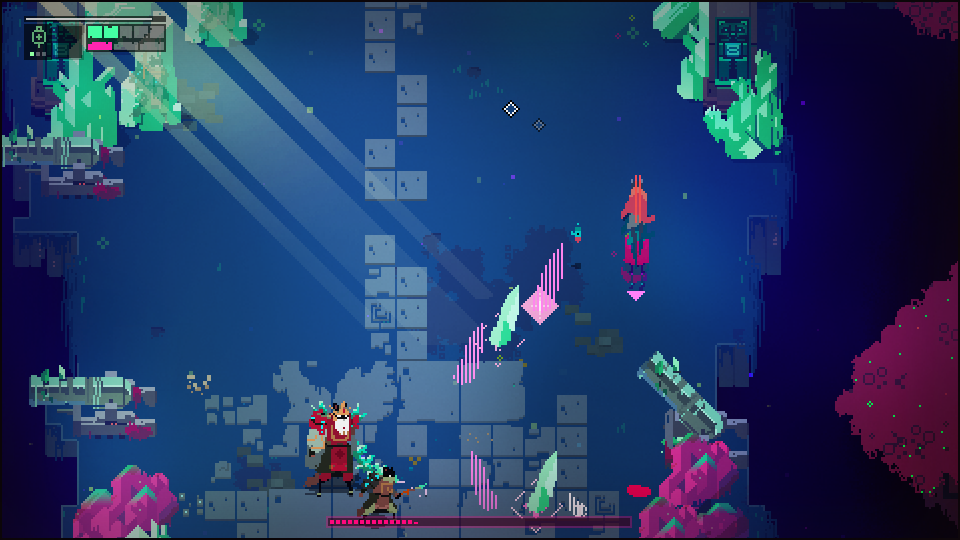hanged_crys: (531, 244, 568, 314), (488, 282, 518, 351), (454, 324, 484, 393), (471, 449, 501, 518), (526, 449, 556, 518)
hanged_man: (304, 401, 410, 492)
player: (614, 170, 655, 241)
